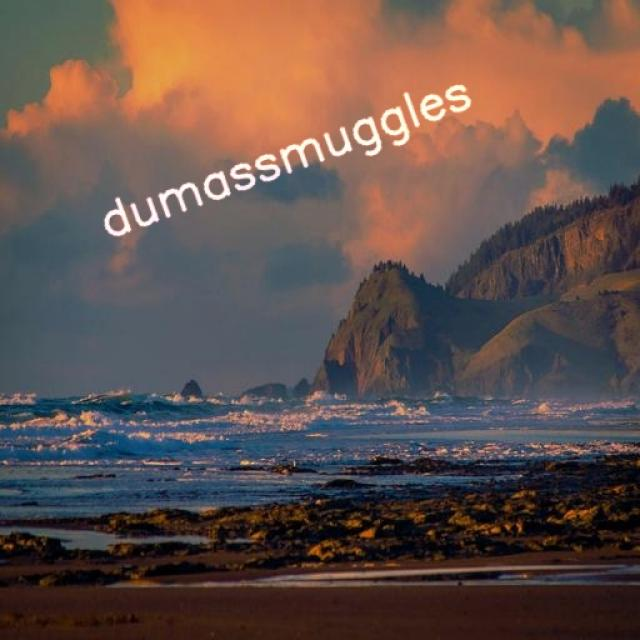watermark: (95, 68, 475, 246)
